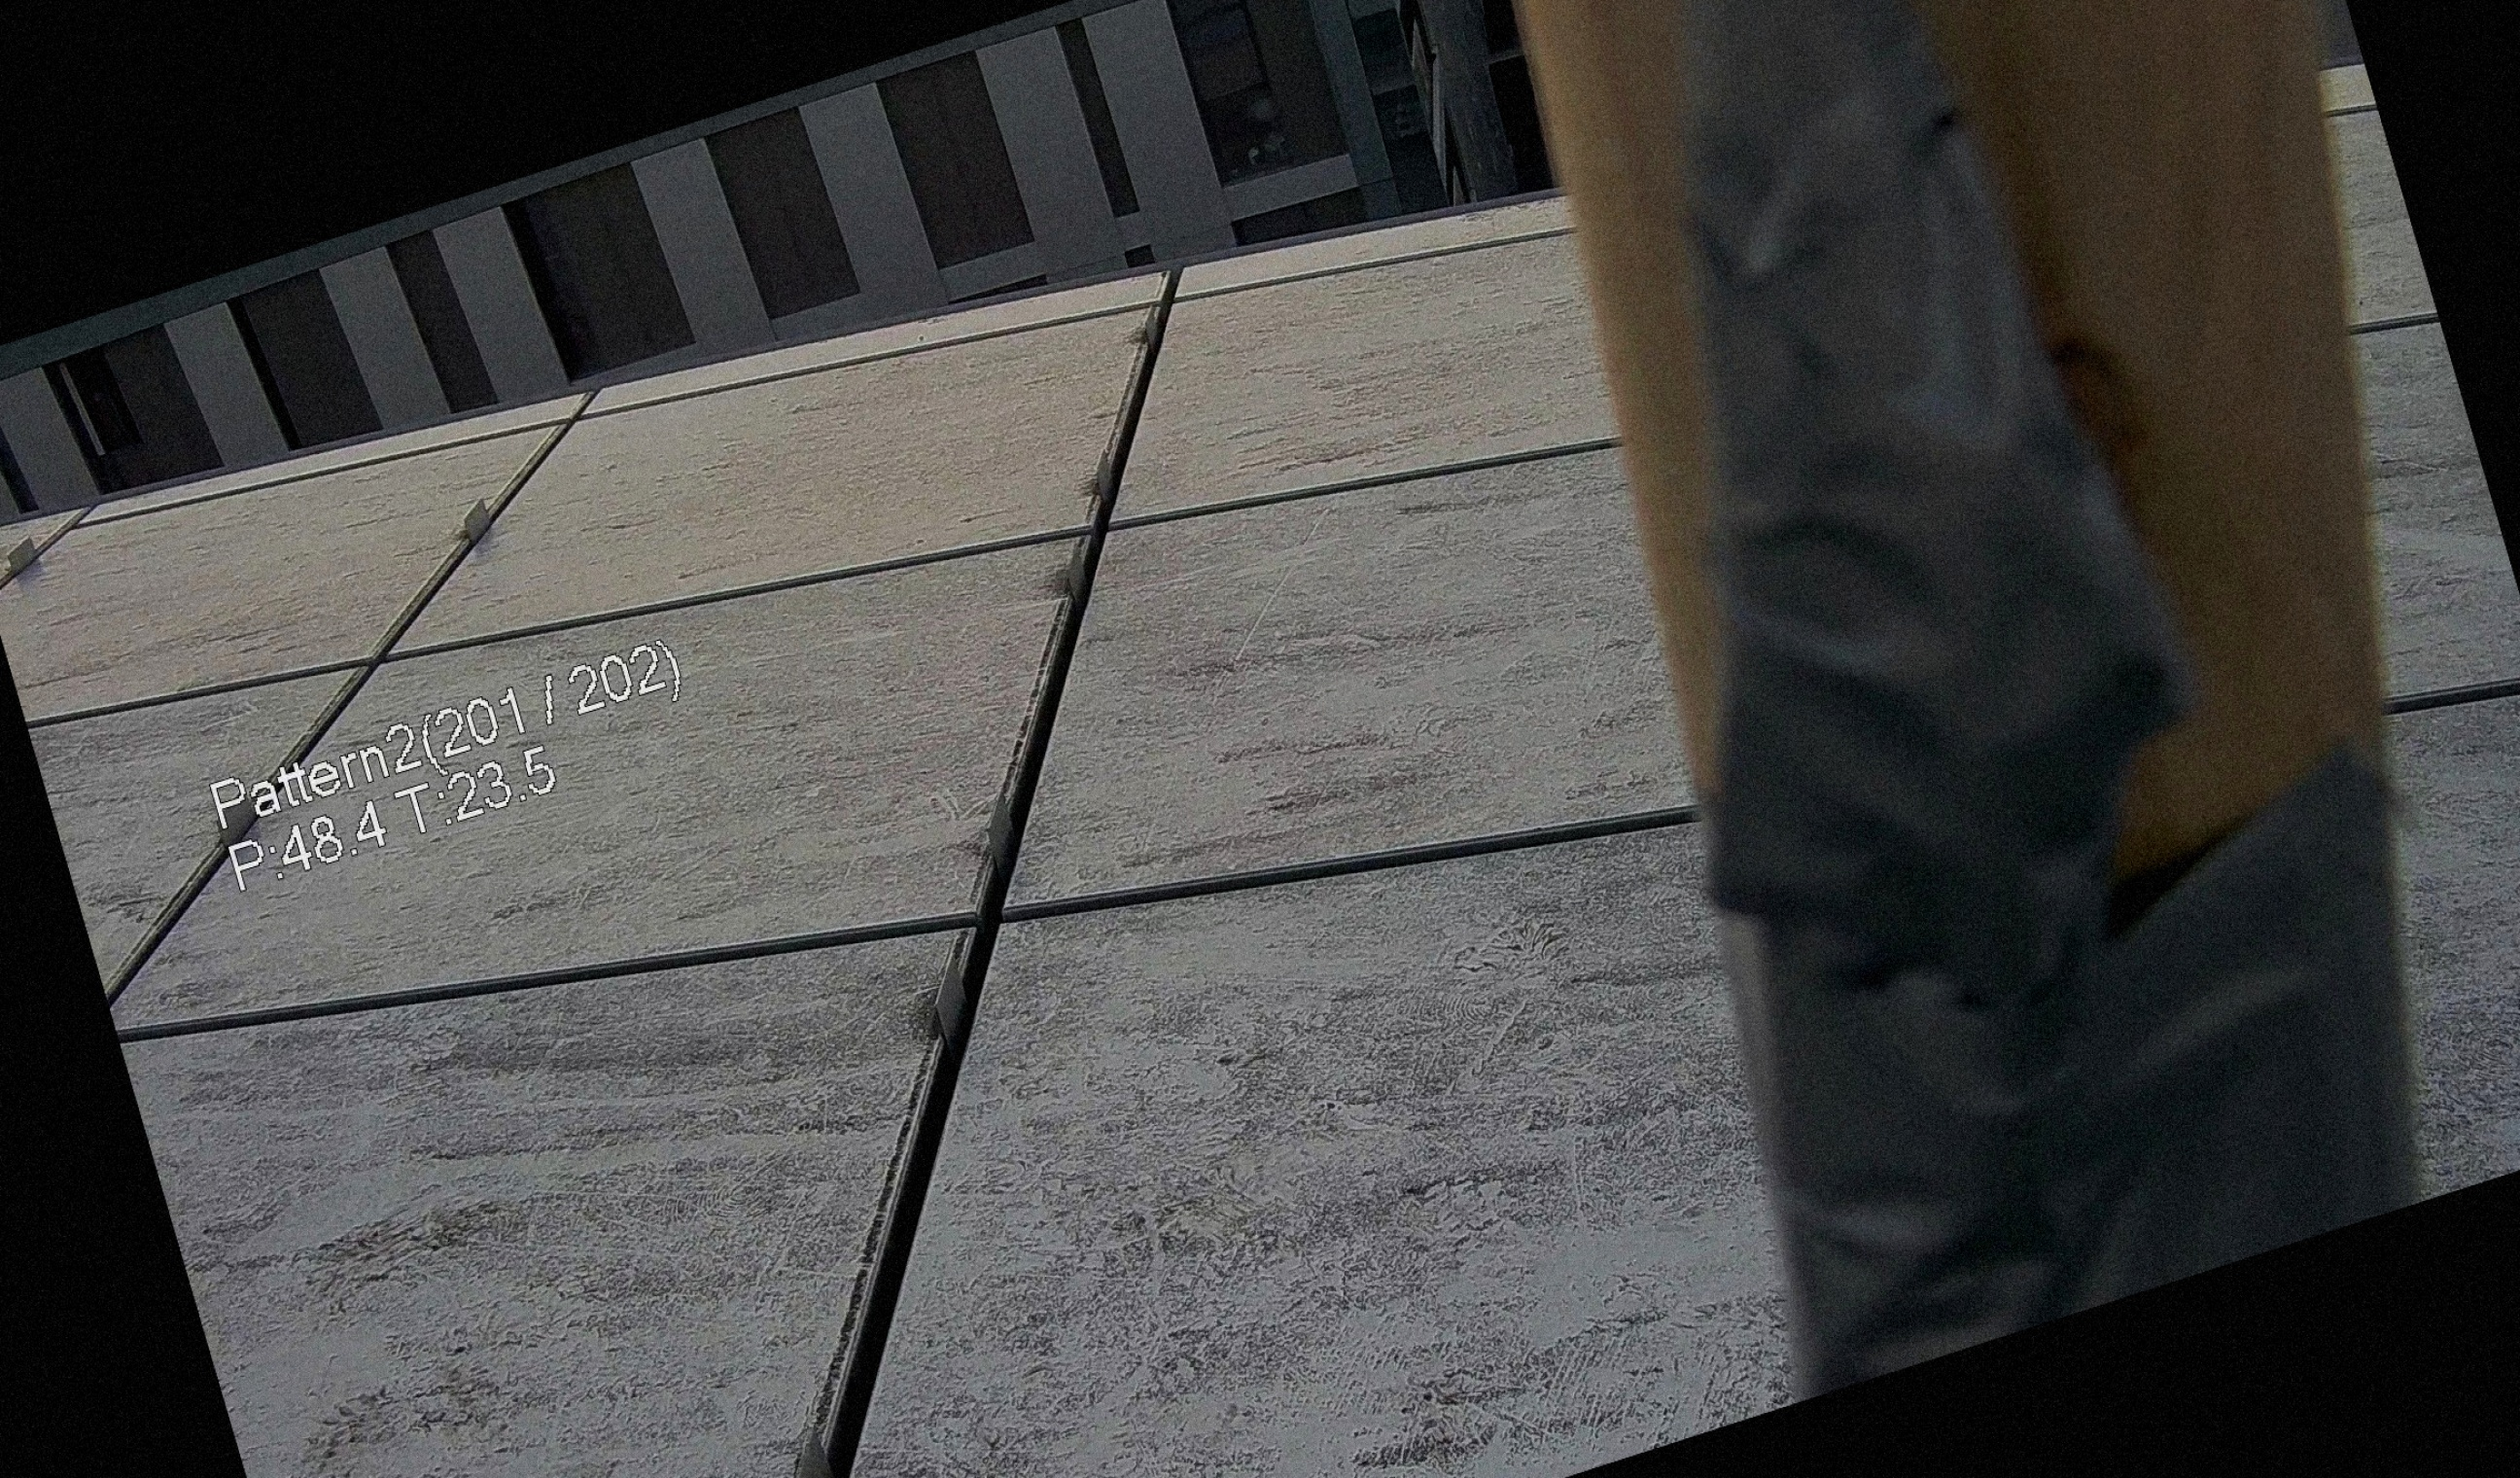Other: (1414, 0, 2520, 1316)
